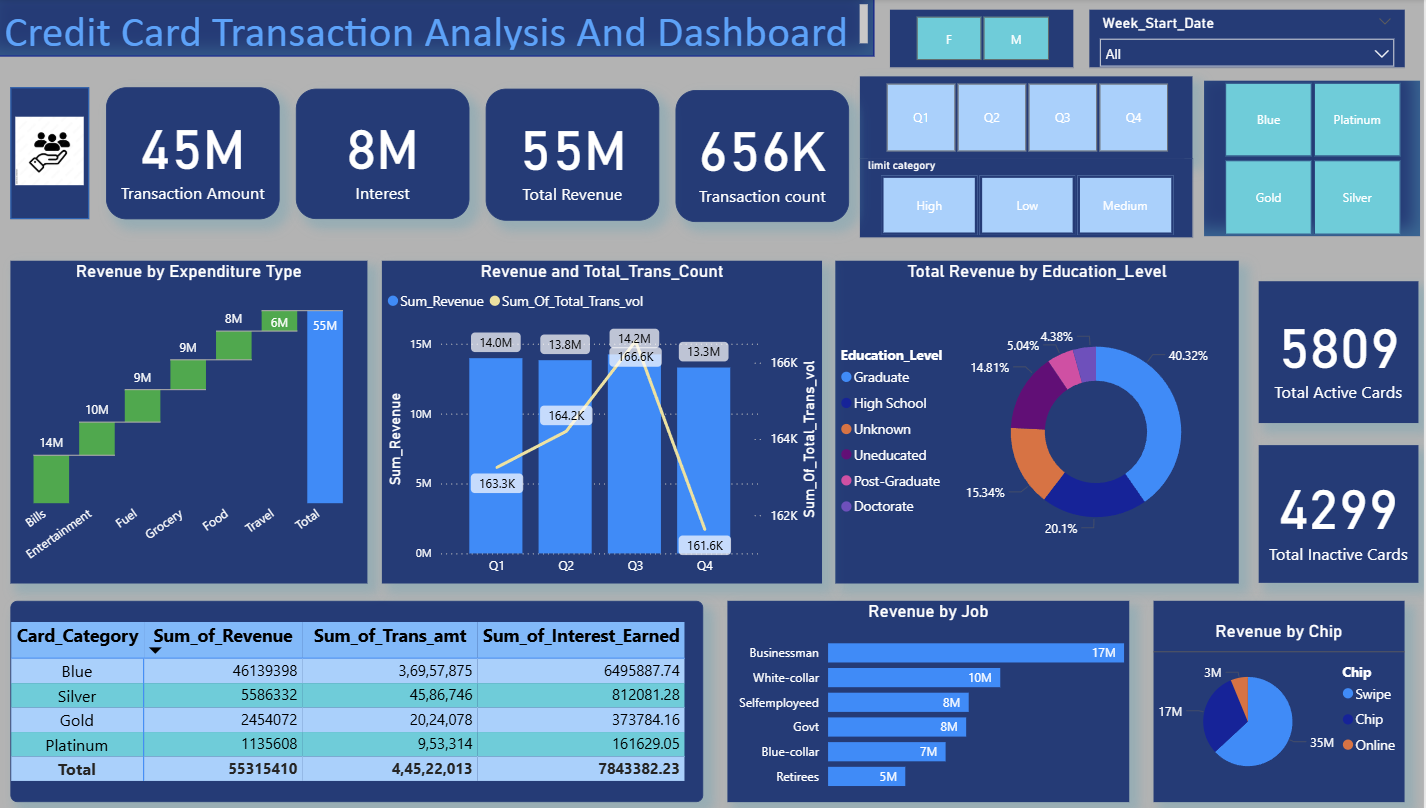

The page's visual inventory and layout, read from the dashboard file:
{"tool":"powerbi","page":{"name":"transaction information","canvas":[1400,800],"ordinal":0},"visuals":[{"type":"textbox","box":[0,0,860,56.8],"z":0},{"type":"slicer","fields":{"Values":["credit_card.Qtr"]},"box":[845.8,75.7,326.7,80.5],"z":1000},{"type":"slicer","fields":{"Values":["credit_card.Week_Start_Date"]},"box":[1071.5,11,309.3,56.8],"z":2000},{"type":"slicer","fields":{"Values":["customer.Gender"]},"box":[875.8,11,179.9,56.8],"z":3000},{"type":"slicer","fields":{"Values":["credit_card.Card_Category"]},"box":[1183.7,80.4,211.8,152.8],"z":4000},{"type":"slicer","fields":{"Values":["credit_card.limit category"]},"box":[845.8,156.2,326.7,77.3],"z":5000},{"type":"card","fields":{"Values":["measure.Total Revenue"]},"box":[105.7,86.8,170.4,129.4],"z":6000},{"type":"card","fields":{"Values":["measure.Interest"]},"box":[291.9,88.4,170.4,127.8],"z":7000},{"type":"card","fields":{"Values":["measure.Transaction count"]},"box":[664.3,89.9,170.4,129.4],"z":8000},{"type":"card","fields":{"Values":["measure.Total Revenue"]},"box":[478.1,88.4,170.4,129.4],"z":9000},{"type":"pivotTable","fields":{"Rows":["credit_card.Card_Category"],"Values":["measure.Total Revenue","measure.Transaction amount","Sum(credit_card.Interest_Earned)"]},"box":[12.6,591.8,680.1,197.3],"z":10000},{"type":"waterfallChart","fields":{"Category":["credit_card.Exp Type"],"Y":["measure.Total Revenue"]},"box":[12.6,257.2,350.3,317.2],"z":11000},{"type":"donutChart","fields":{"Category":["customer.Education_Level"],"Y":["measure.Total Revenue"]},"box":[822.1,257.2,396.1,317.2],"z":12000},{"type":"barChart","fields":{"Category":["customer.Customer_Job"],"Y":["measure.Total Revenue"]},"box":[716.4,591.8,394.5,197.3],"z":13000},{"type":"pieChart","fields":{"Category":["credit_card.Use Chip"],"Y":["measure.Total Revenue"]},"box":[1134.6,591.8,246.2,197.3],"z":14000},{"type":"lineClusteredColumnComboChart","title":"Revenue and Total_Trans_Count","fields":{"Category":["credit_card.Qtr"],"Y":["measure.Total Revenue"],"Y2":["measure.Transaction count"]},"box":[377.1,257.2,432.4,317.2],"z":15000},{"type":"card","fields":{"Values":["measure.Total Active Cards"]},"box":[1237.3,277.5,156.8,139.4],"z":16000},{"type":"card","fields":{"Values":["measure.Total Inactive Cards"]},"box":[1237.3,438.3,156.8,135.4],"z":17000},{"type":"shape","box":[12.6,86.8,77.3,129.4],"z":18000},{"type":"image","box":[12.6,102.6,77.3,93.1],"z":19000}]}

Visuals, with their boxes in screenshot pixels (x1, y1, x2, y2), scaled from the page's 1400x800 canvas onto the 1426x808 screenshot:
textbox: <box>0,0,876,57</box>
slicer - credit_card.Qtr: <box>862,76,1194,158</box>
slicer - credit_card.Week_Start_Date: <box>1091,11,1406,68</box>
slicer - customer.Gender: <box>892,11,1075,68</box>
slicer - credit_card.Card_Category: <box>1206,81,1421,236</box>
slicer - credit_card.limit category: <box>862,158,1194,236</box>
card - measure.Total Revenue: <box>108,88,281,218</box>
card - measure.Interest: <box>297,89,471,218</box>
card - measure.Transaction count: <box>677,91,850,221</box>
card - measure.Total Revenue: <box>487,89,661,220</box>
pivotTable - credit_card.Card_Category x measure.Total Revenue: <box>13,598,706,797</box>
waterfallChart - credit_card.Exp Type x measure.Total Revenue: <box>13,260,370,580</box>
donutChart - customer.Education_Level x measure.Total Revenue: <box>837,260,1241,580</box>
barChart - customer.Customer_Job x measure.Total Revenue: <box>730,598,1132,797</box>
pieChart - credit_card.Use Chip x measure.Total Revenue: <box>1156,598,1406,797</box>
"Revenue and Total_Trans_Count" lineClusteredColumnComboChart: <box>384,260,825,580</box>
card - measure.Total Active Cards: <box>1260,280,1420,421</box>
card - measure.Total Inactive Cards: <box>1260,443,1420,579</box>
shape: <box>13,88,92,218</box>
image: <box>13,104,92,198</box>
